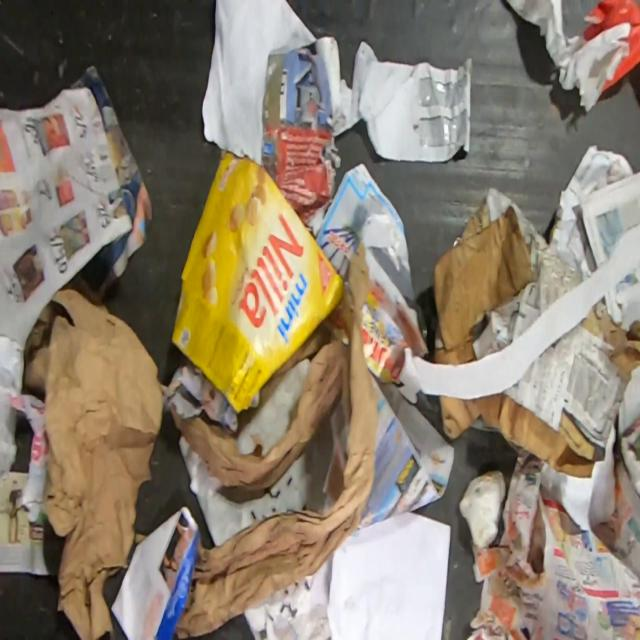cardboard: (170, 152, 345, 416), (395, 219, 640, 404), (438, 298, 640, 478), (432, 187, 591, 364)
rigid_plastic: (582, 0, 640, 95)
